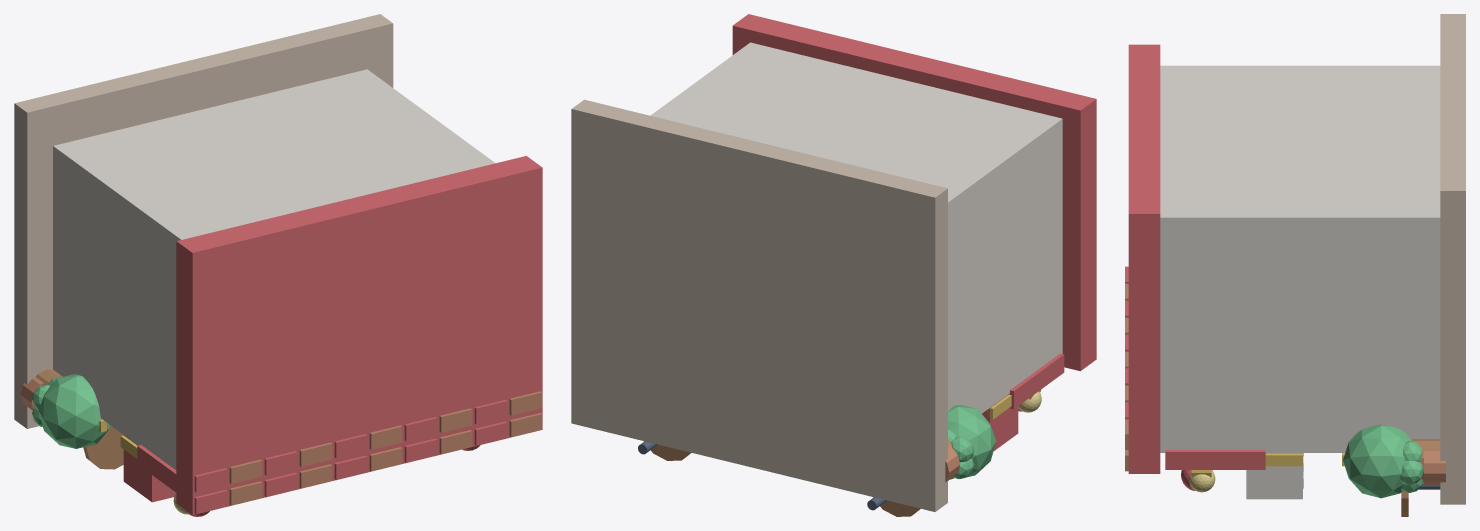
Rendered from restaurant.glb.
The picture shows the model from 3 angles, left to right: view 1: azimuth 30°, elevation 25°; view 2: azimuth 150°, elevation 25°; view 3: azimuth 270°, elevation 25°; orthographic projection.
Parts seen in each view (by area): view 1: roof_2, walls_1, plinth_0, plant_20, awning_5, table_27, signboard_3, detail_roof_tile_44, detail_roof_tile_51, detail_roof_tile_37, detail_roof_tile_38, detail_roof_tile_39 (+15 smaller); view 2: plinth_0, walls_1, roof_2, plant_20, signboard_3, awning_5; view 3: walls_1, roof_2, plinth_0, plant_22, signboard_3, awning_12, detail_flower_pot_27, detail_window_trim_5, detail_foliage_28, detail_sconce_glow_9.
Boxes of the visible parts, x1=… form: roof_2: x1=176, y1=156, x2=542, y2=515; walls_1: x1=53, y1=69, x2=495, y2=469; plinth_0: x1=14, y1=14, x2=393, y2=428; plant_20: x1=38, y1=374, x2=110, y2=448; awning_5: x1=123, y1=435, x2=175, y2=502; table_27: x1=83, y1=426, x2=123, y2=469; signboard_3: x1=137, y1=445, x2=176, y2=492; detail_roof_tile_44: x1=194, y1=468, x2=227, y2=492; detail_roof_tile_51: x1=439, y1=408, x2=472, y2=432; detail_roof_tile_37: x1=299, y1=464, x2=332, y2=488; detail_roof_tile_38: x1=334, y1=455, x2=367, y2=479; detail_roof_tile_39: x1=369, y1=447, x2=402, y2=471; plinth_0: x1=571, y1=99, x2=947, y2=511; walls_1: x1=650, y1=42, x2=1062, y2=413; roof_2: x1=732, y1=14, x2=1096, y2=371; plant_20: x1=948, y1=405, x2=996, y2=479; signboard_3: x1=1008, y1=353, x2=1064, y2=409; awning_5: x1=982, y1=394, x2=1018, y2=451; walls_1: x1=1160, y1=65, x2=1440, y2=452; roof_2: x1=1128, y1=44, x2=1160, y2=473; plinth_0: x1=1440, y1=14, x2=1465, y2=504; plant_22: x1=1343, y1=424, x2=1411, y2=498; signboard_3: x1=1165, y1=450, x2=1265, y2=469; awning_12: x1=1246, y1=453, x2=1302, y2=499; detail_flower_pot_27: x1=1424, y1=451, x2=1445, y2=484; detail_window_trim_5: x1=1265, y1=453, x2=1302, y2=466; detail_foliage_28: x1=1400, y1=461, x2=1423, y2=485; detail_sconce_glow_9: x1=1189, y1=470, x2=1215, y2=492.
Bounding box in the file's own units: 4.94 × 4.31 × 3.74.
